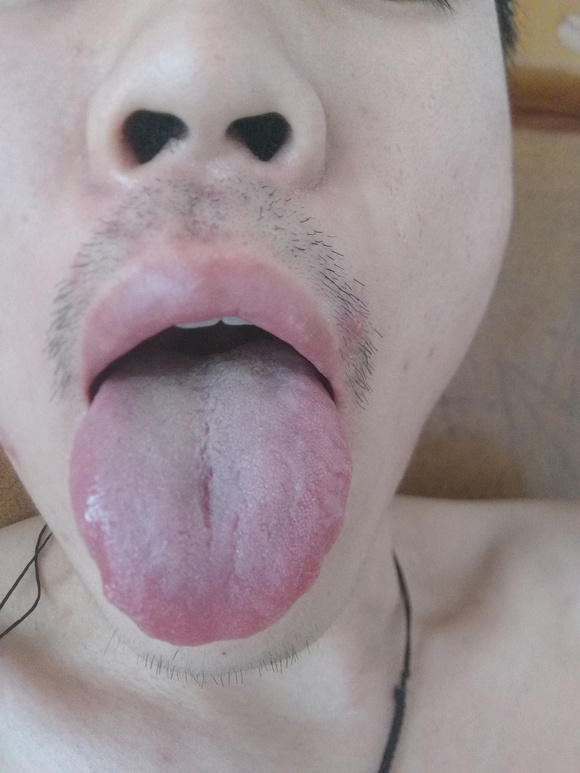chihenshe: (72, 508, 143, 634)
huangtaishe: (70, 338, 351, 646)
liewenshe: (191, 419, 216, 548)
pangdashe: (70, 338, 351, 646)
